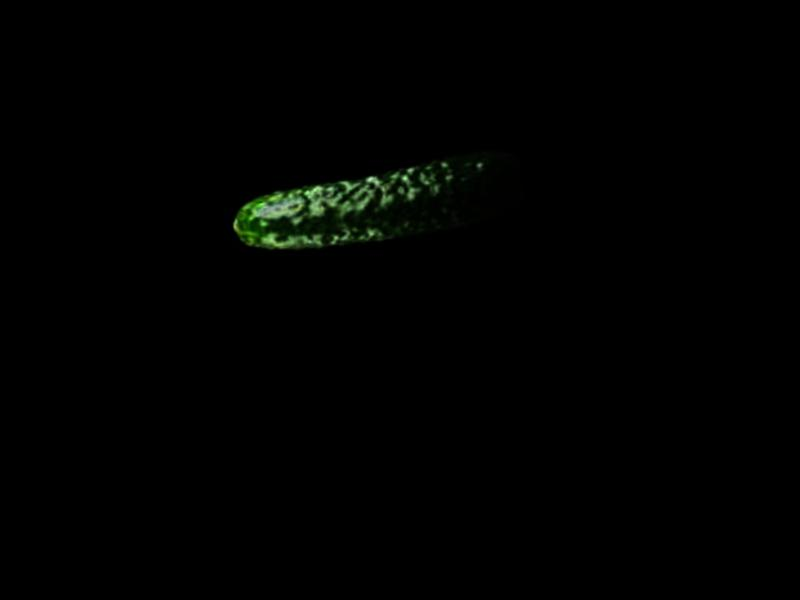Cucumber: (225, 144, 528, 263)
